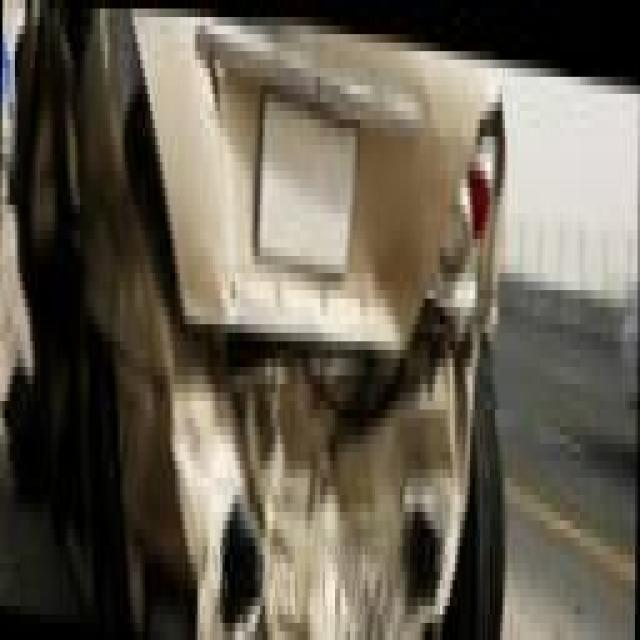Bumper: (112, 314, 479, 640)
Light: (422, 104, 499, 324)
